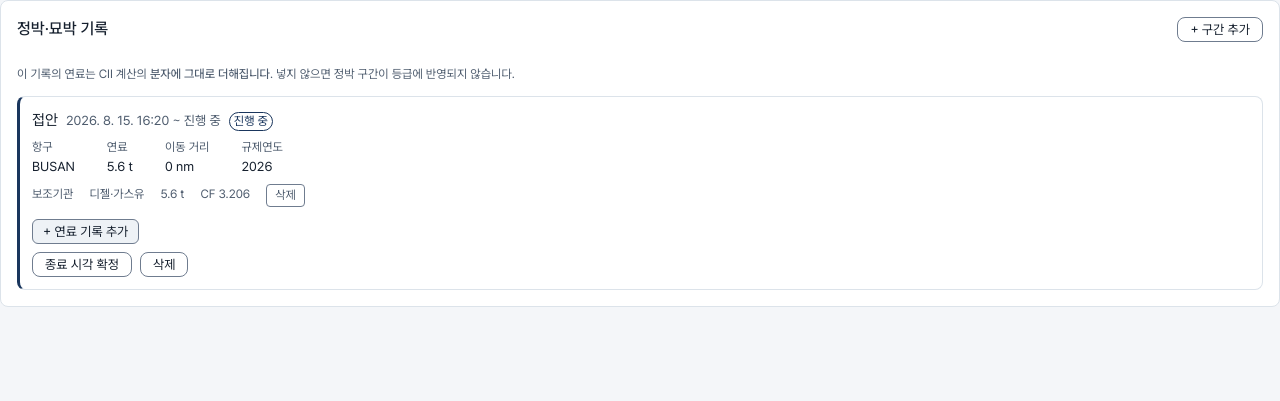
구간 연료 편집 (#638) › 서버 거부(409) 문구를 그대로 보인다 — 무엇이 겹쳤는지 담겨 있다
The width and height of the screenshot is (1280, 401).
Click the button with test id "nu-fuel-add".
click(86, 231)  # box [32, 219, 139, 244]
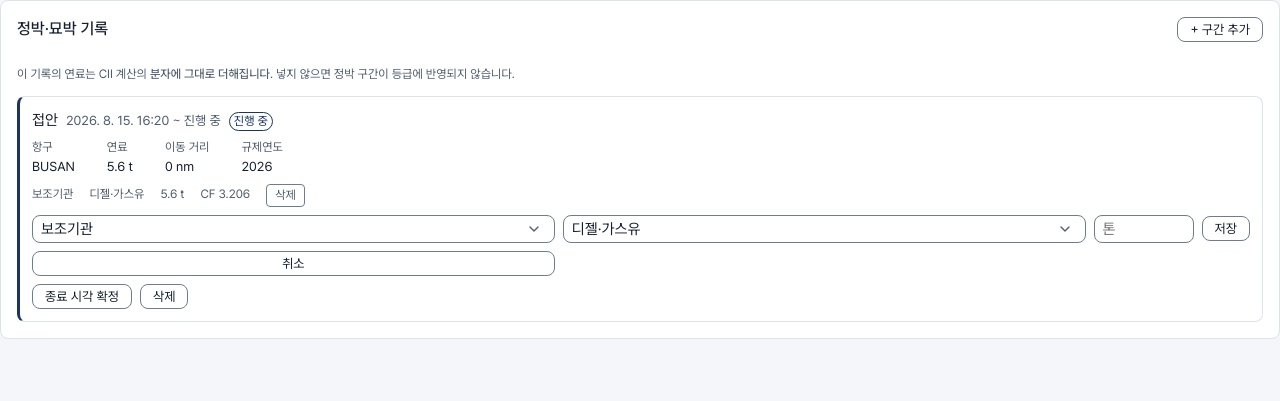
Type "4.5" into the number field named "연료량".
click(1144, 229); type("4.5")  # box [1094, 215, 1194, 243]
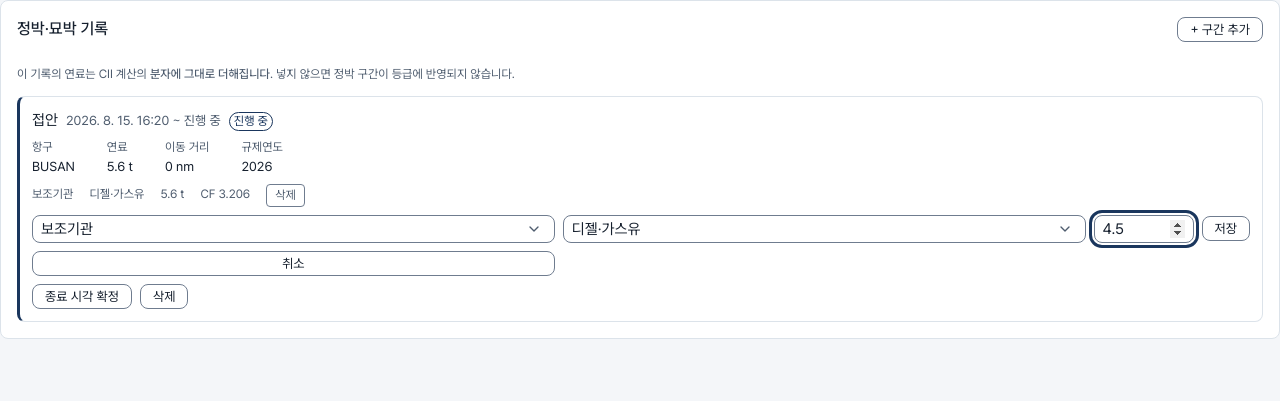
Click the button with test id "nu-fuel-save".
click(1226, 229)  # box [1202, 216, 1250, 241]
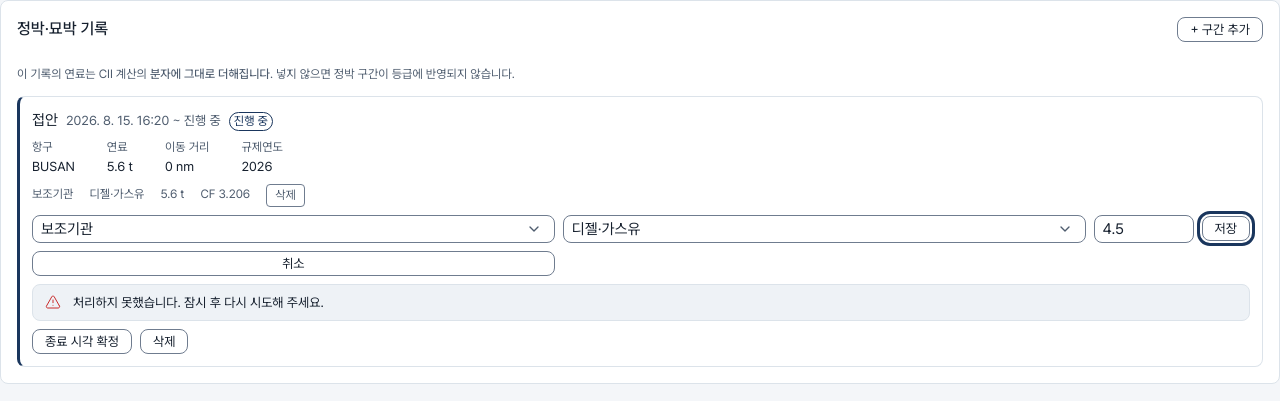
Expected: the text "처리하지 못했습니다. 잠시 후 다시 시도해 주세요." is shown, [73, 295, 324, 310]
